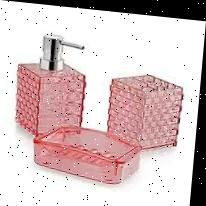cube: (109, 69, 183, 145)
